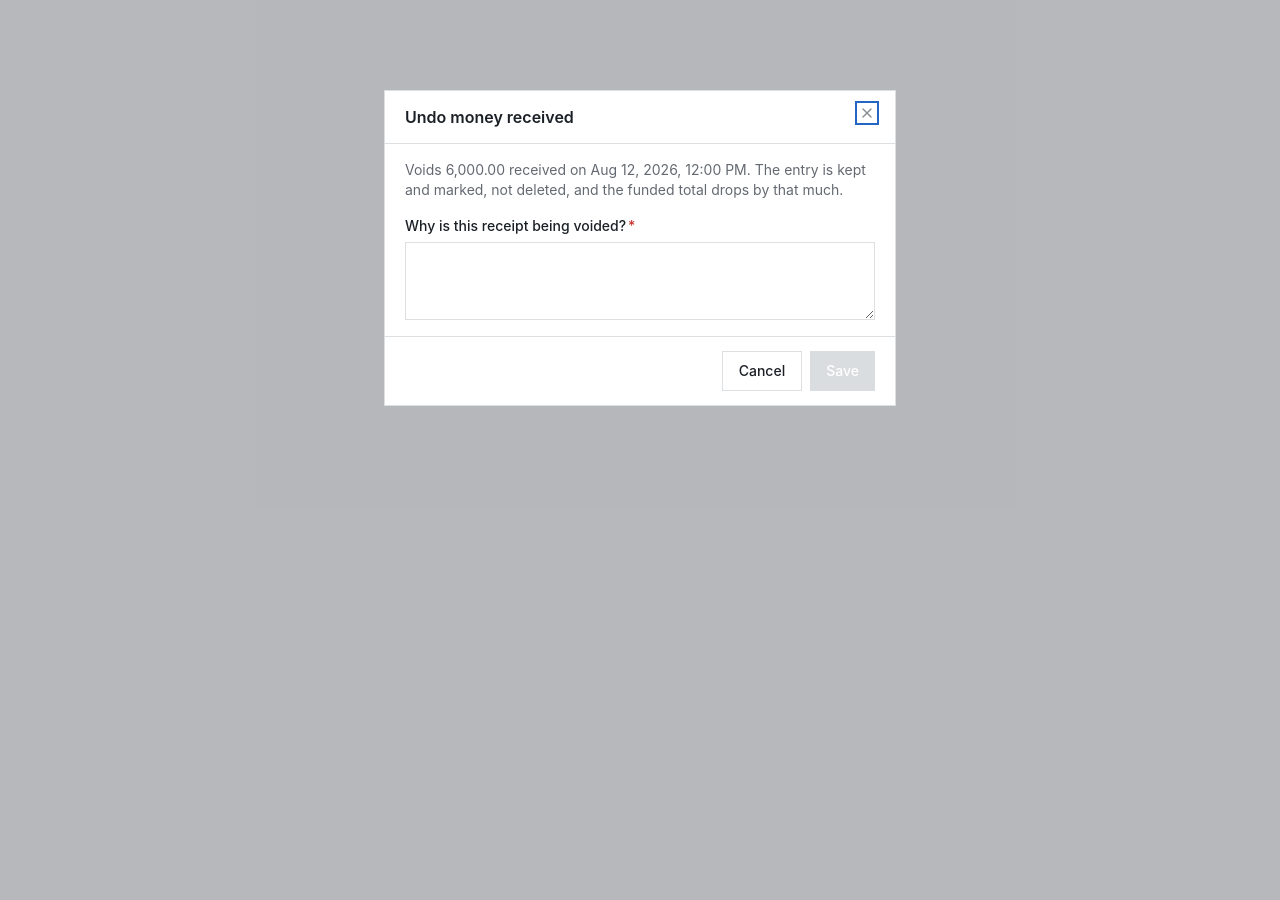
Test: the Back dialog › will not send a reversal until a reason is given
Expected: the button "Save" is disabled, [810,351,875,391]
Type "Accounts reversed it" into the text box labelled "Why is this receipt being voided?" at (640, 281), box [405,242,875,320]
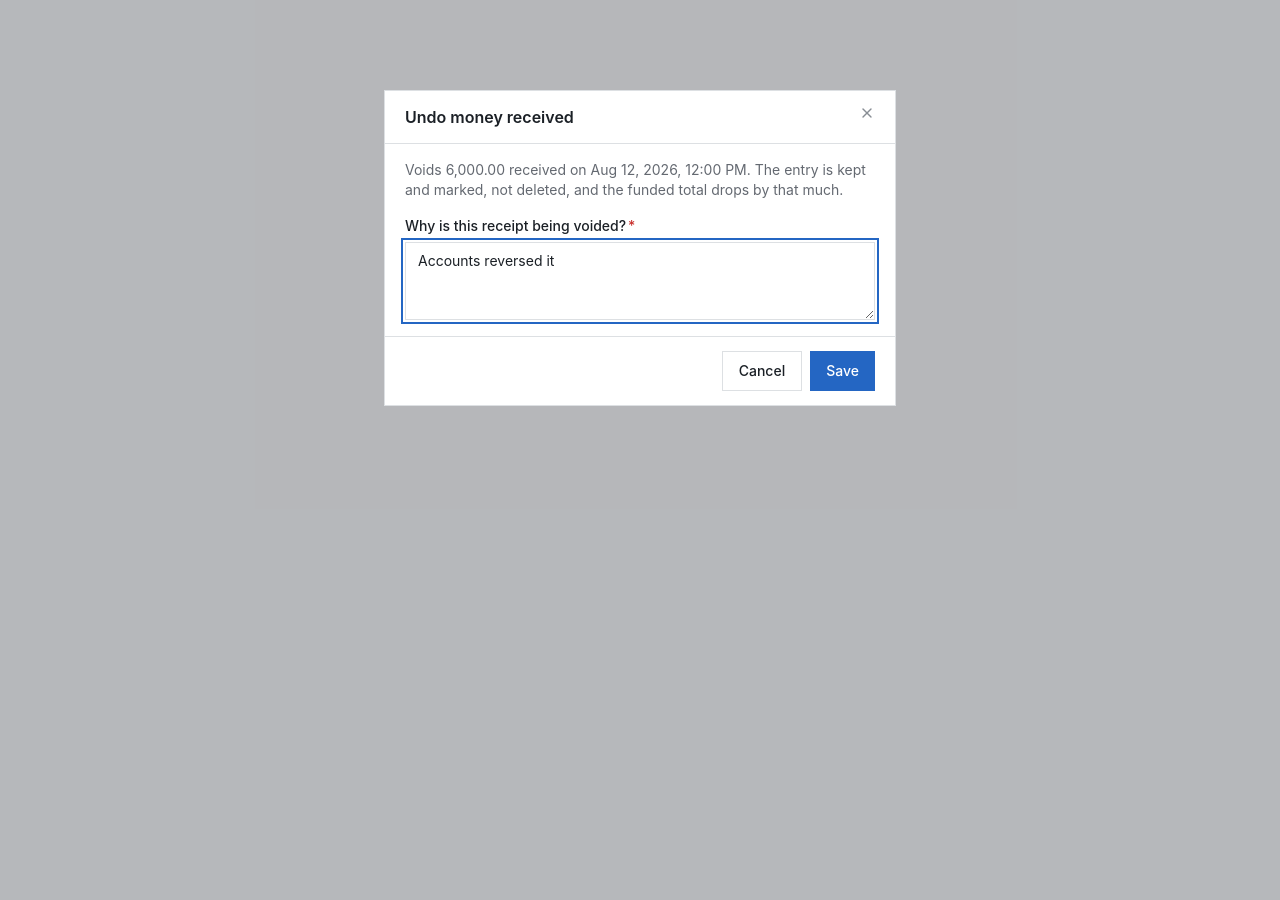
Expected: the button "Save" is enabled, [810,351,875,391]
